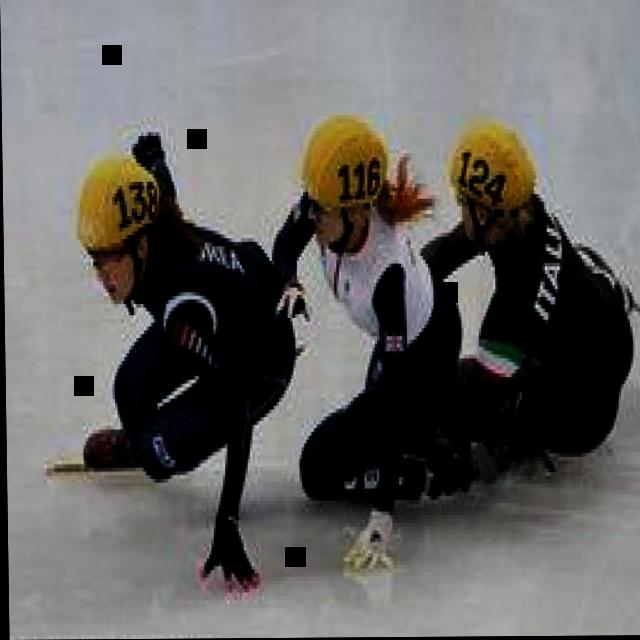Fall-Detected: (37, 128, 302, 590)
